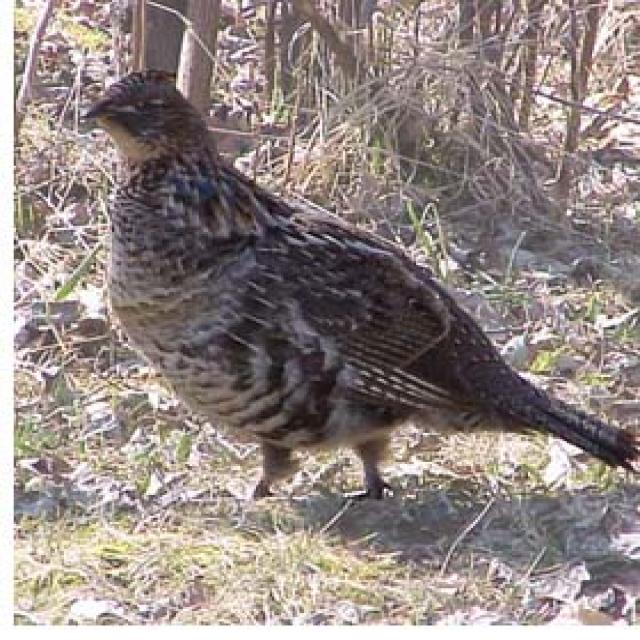bird: (79, 63, 639, 502)
